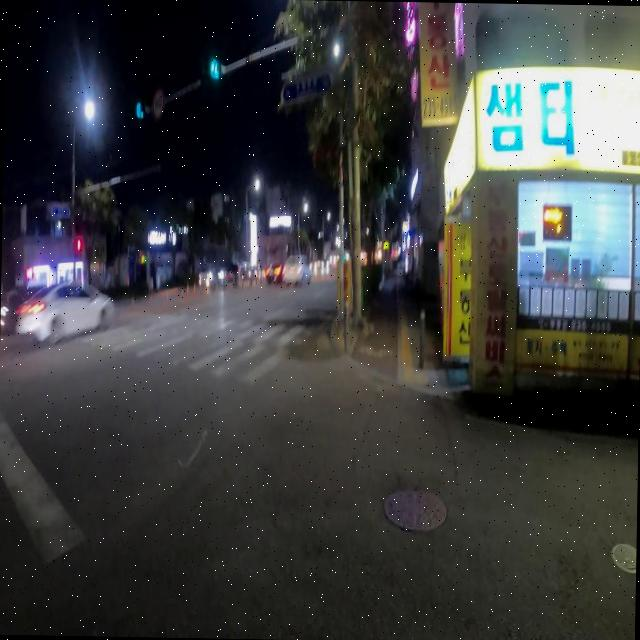crosswalk: (48, 308, 319, 385)
